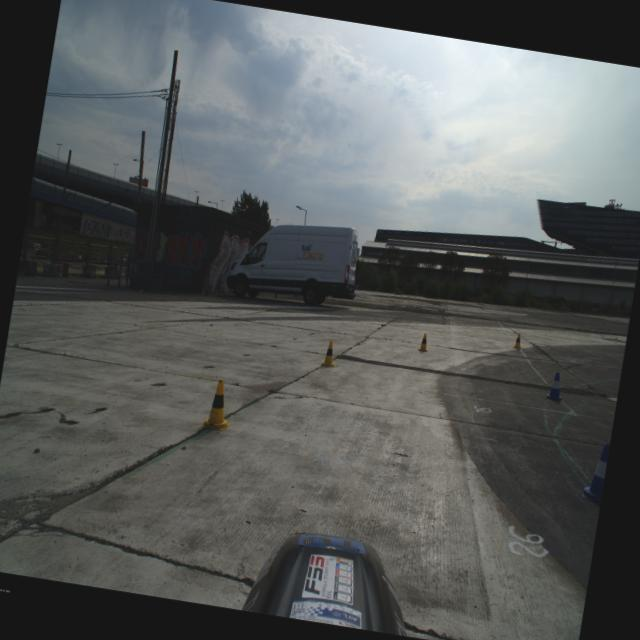blue_cone: (581, 441, 610, 505), (544, 371, 568, 402)
yellow_cone: (200, 378, 238, 432), (320, 340, 339, 368), (418, 332, 432, 352), (512, 333, 524, 350)
